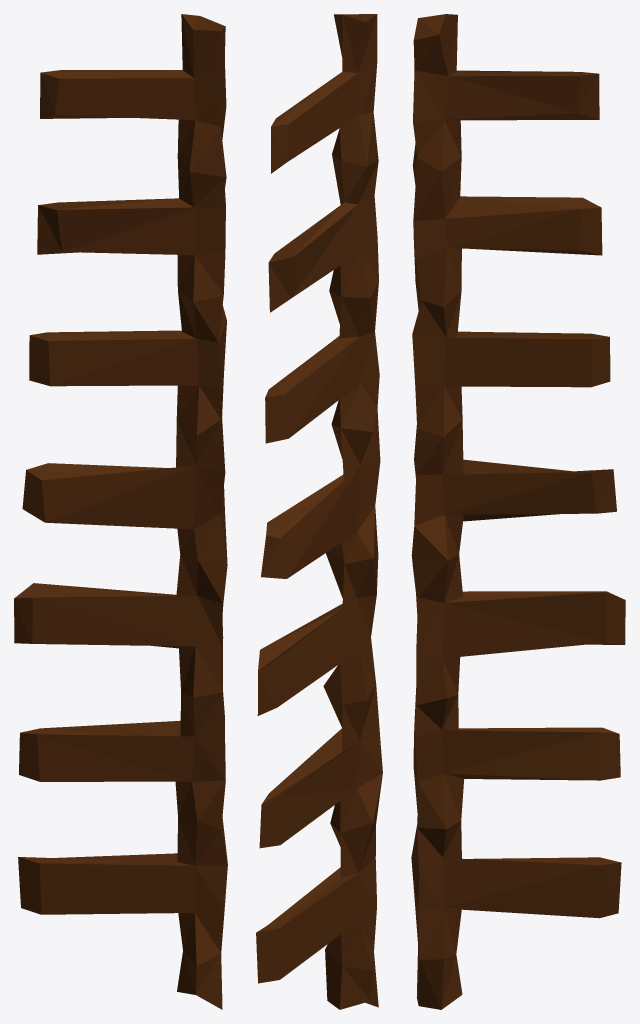
File: ladder.fbx
3 renders of one model, left to right at view 1: azimuth 90°, elevation 25°; view 2: azimuth 150°, elevation 25°; view 3: azimuth 270°, elevation 25°, orthographic.
Visible parts, largest first — view 1: ladder; view 2: ladder; view 3: ladder.
Part boxes in pixels (x1,y1,x2,y2): ladder: (14,14,227,1009); ladder: (256,14,382,1009); ladder: (411,14,625,1009).
Bounding box in the file's own units: 31.7 × 638 × 125.
